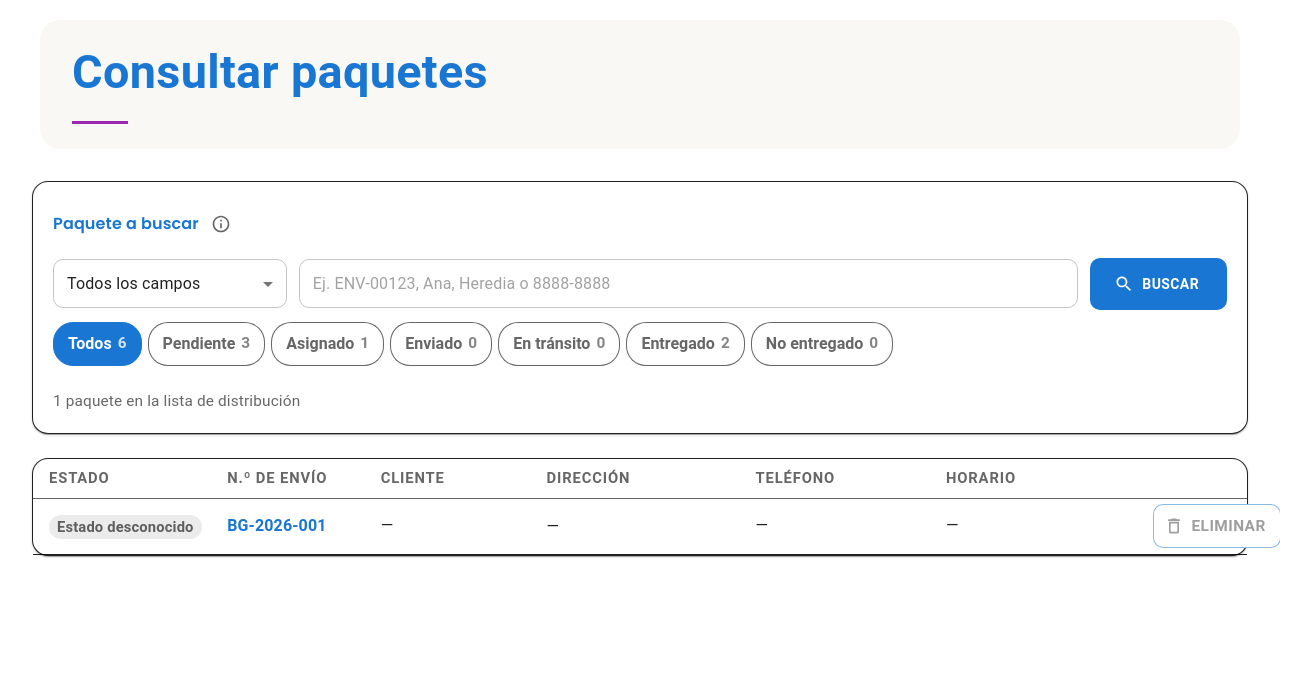
PackageSearchPage › shows the empty-state card for a search with no matches and hides it after clearing
In the field named "Buscar paquetes": (689, 284) [299,260,1078,308], type "Limon"
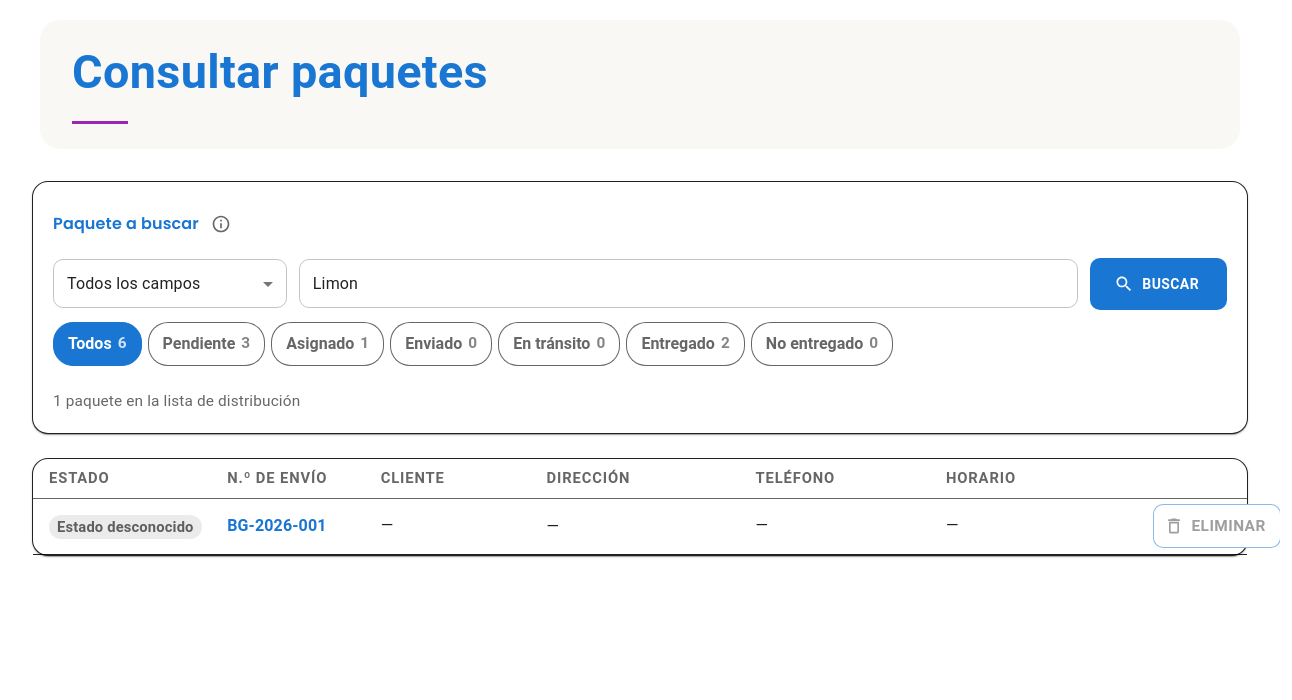
Click the button "Buscar": (1159, 284) [1090,258,1227,310]
(page scrolled)
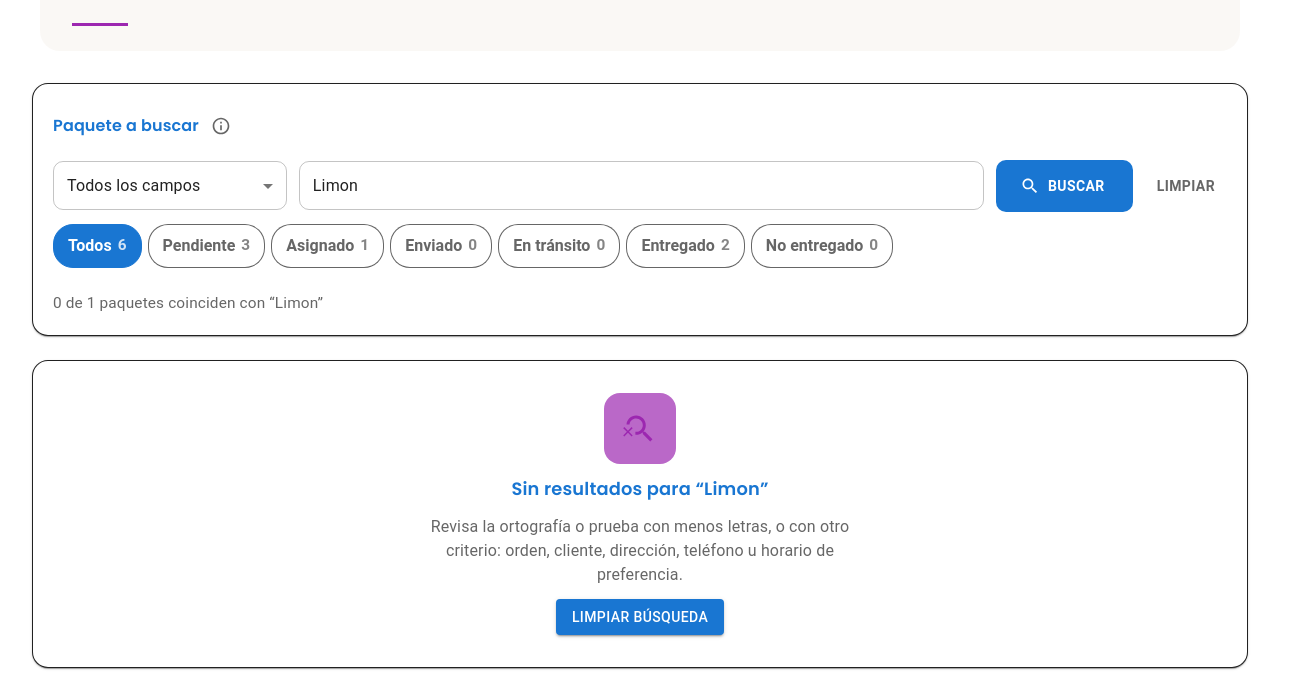
Now the text "Sin resultados para “Limon”" is shown, box [511,476,769,501]
Now the message reads "0 de 1 paquetes coinciden con “Limon”", box [53,294,323,312]
Click the button "Limpiar búsqueda": (640, 617) [556,599,724,636]
(page scrolled)
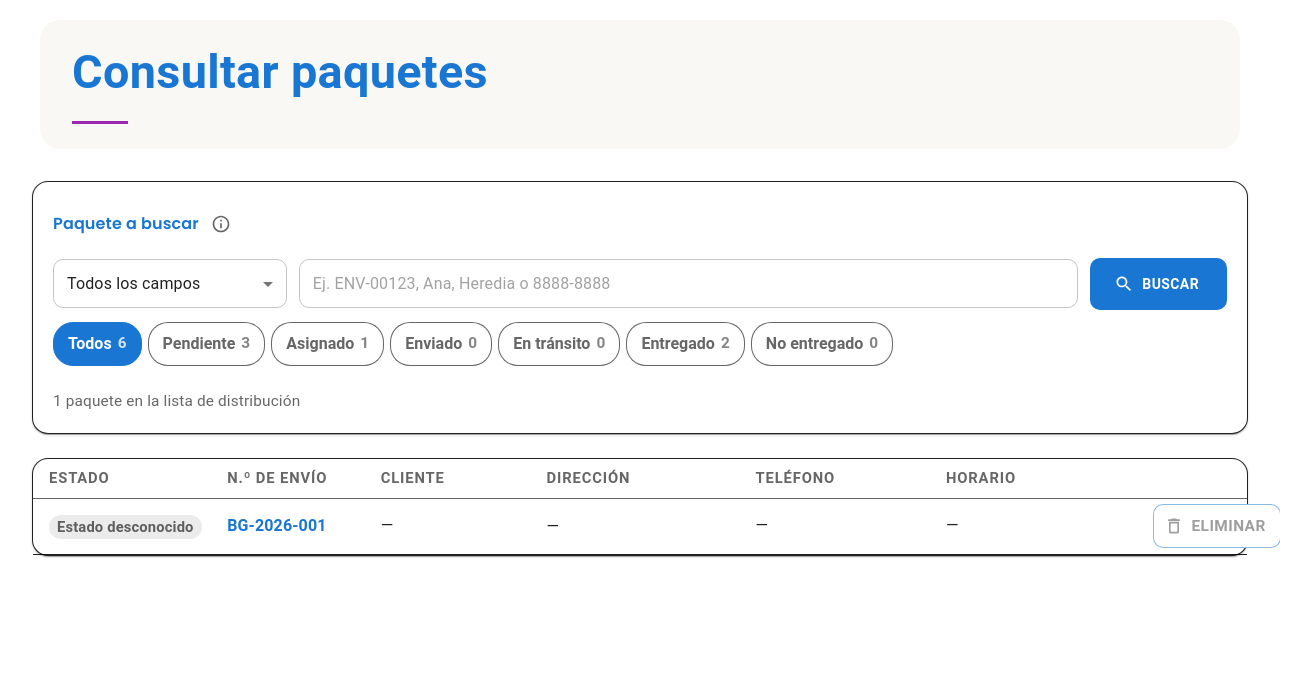
Now the field named "Buscar paquetes" is empty, box [299,260,1078,308]
Now the text "Sin resultados para “Limon”" is gone
Now the message reads "1 paquete en la lista de distribución", box [53,392,300,410]
